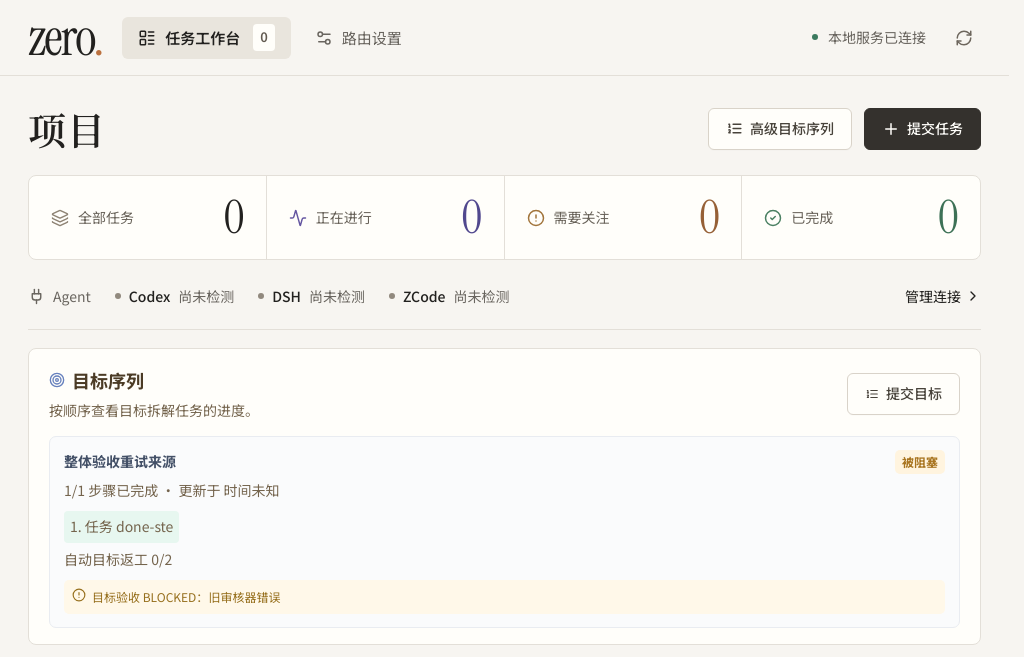
keeps a current-attempt failure visible and permits retrying that same attempt
Click the button "整体验收重试来源". click: [504, 532]
box: [49, 436, 960, 628]
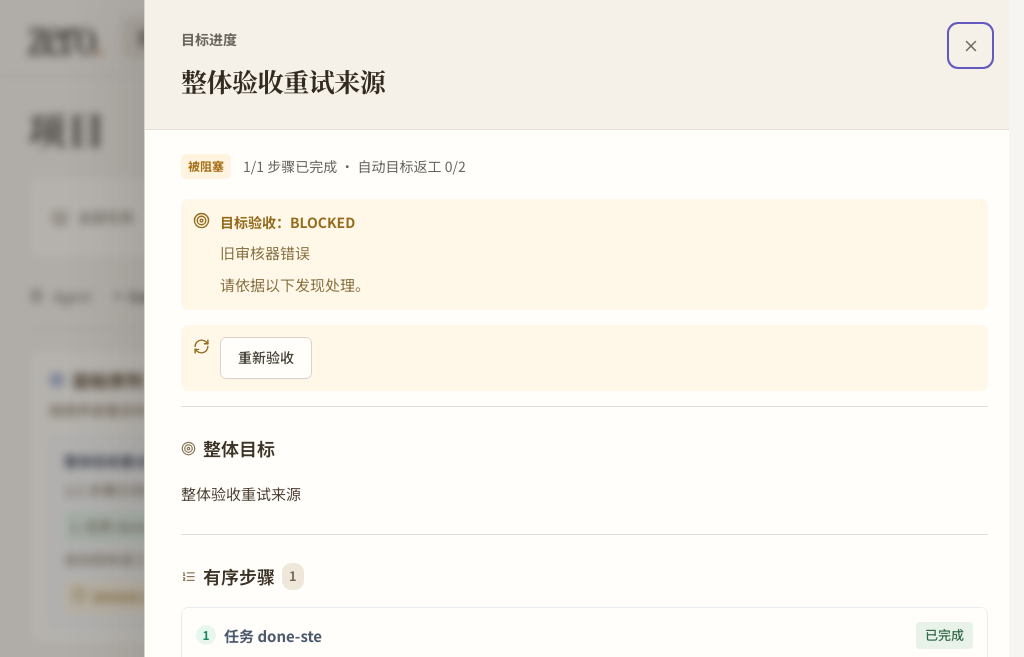
Click the button "重新验收". click: [266, 358]
box: [220, 337, 312, 379]
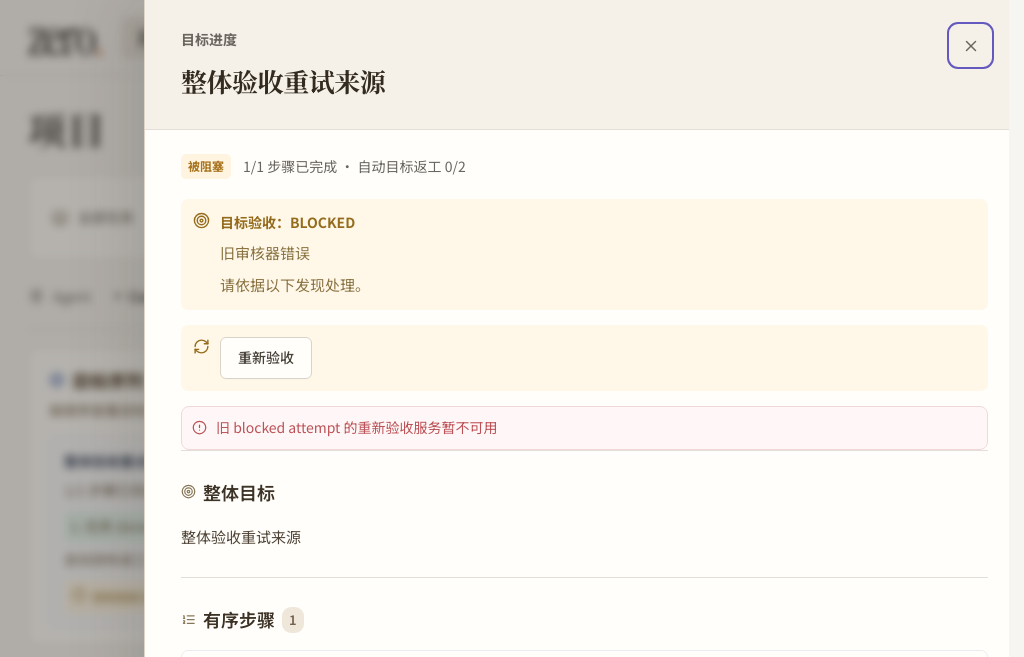
Result: the button "重新验收" is enabled
Result: the message reads "旧 blocked attempt 的重新验收服务暂不可用" at [216, 417, 498, 437]
Click the button "重新验收". click: [266, 358]
box: [220, 337, 312, 379]
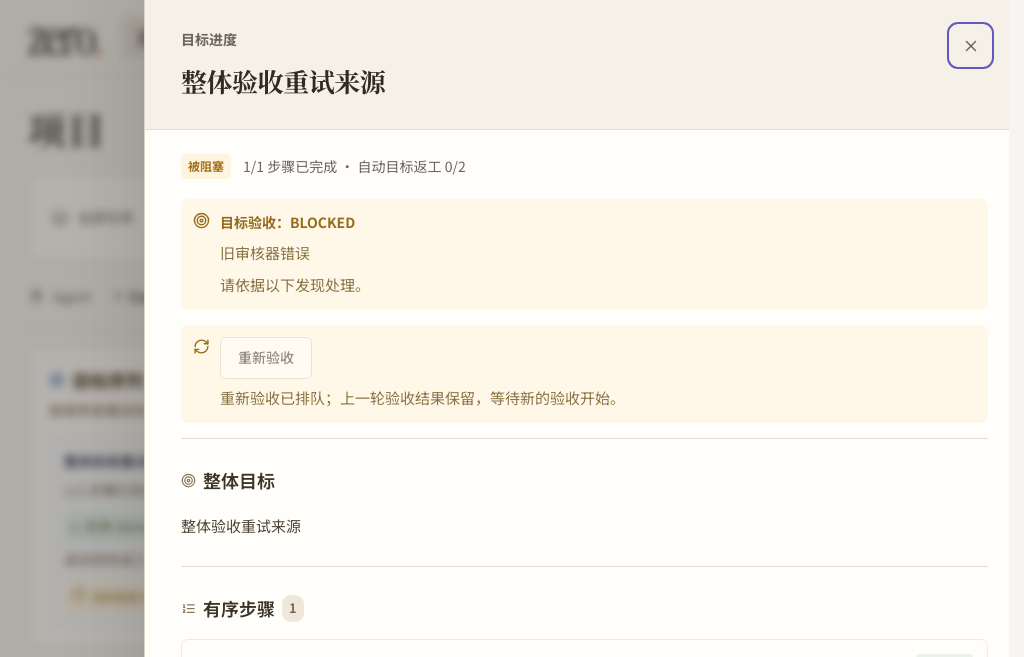
Result: the message shows "重新验收已排队" at [220, 387, 625, 408]
